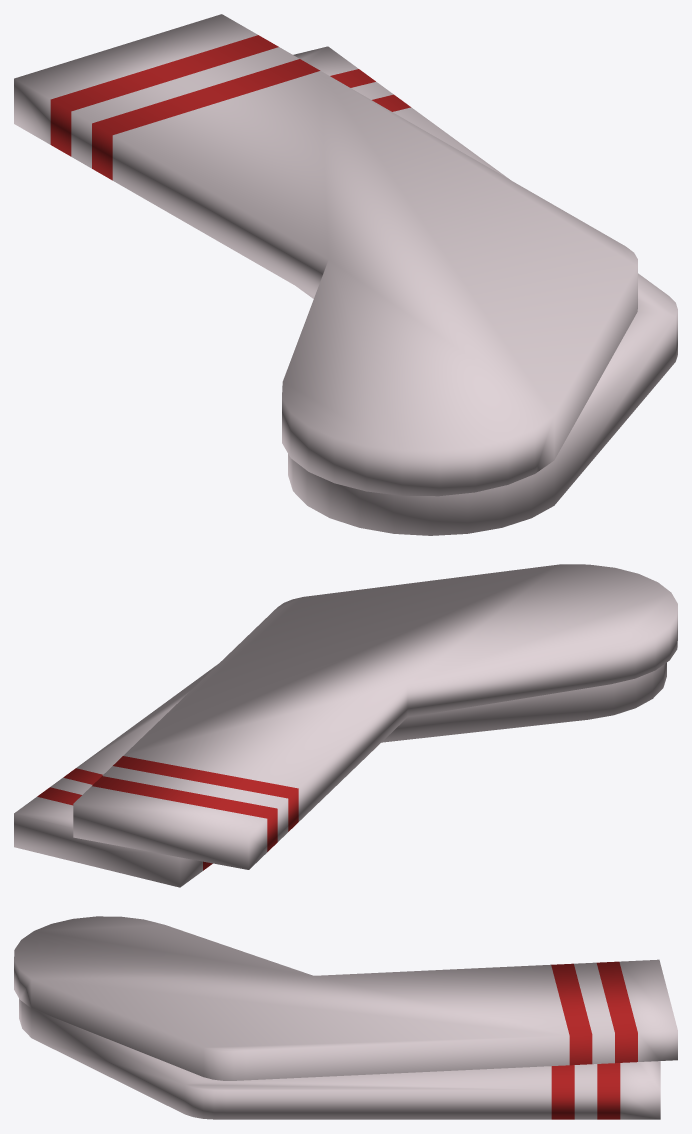
Rendered from Socks.dae.
The picture shows the model from 3 angles, top to bottom: view 1: azimuth 30°, elevation 25°; view 2: azimuth 150°, elevation 25°; view 3: azimuth 270°, elevation 25°; orthographic projection. The views are drawn at different scales.
Visible parts, largest first — view 1: SketchUp (×5); view 2: SketchUp (×5); view 3: SketchUp (×5).
Boxes of the visible parts, x1,y1,x2,y2 form: SketchUp (×5): (14, 14, 677, 535); SketchUp (×5): (14, 564, 677, 887); SketchUp (×5): (14, 916, 677, 1119).
Size of the model in its own units: 16.51 by 32.22 by 3.17.
